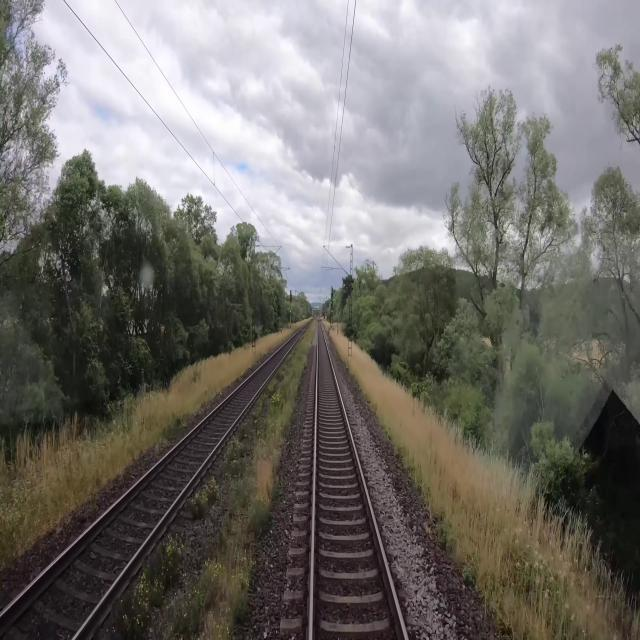Plant: (101, 321, 317, 639)
